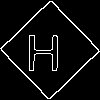H: (25, 25, 62, 71)
